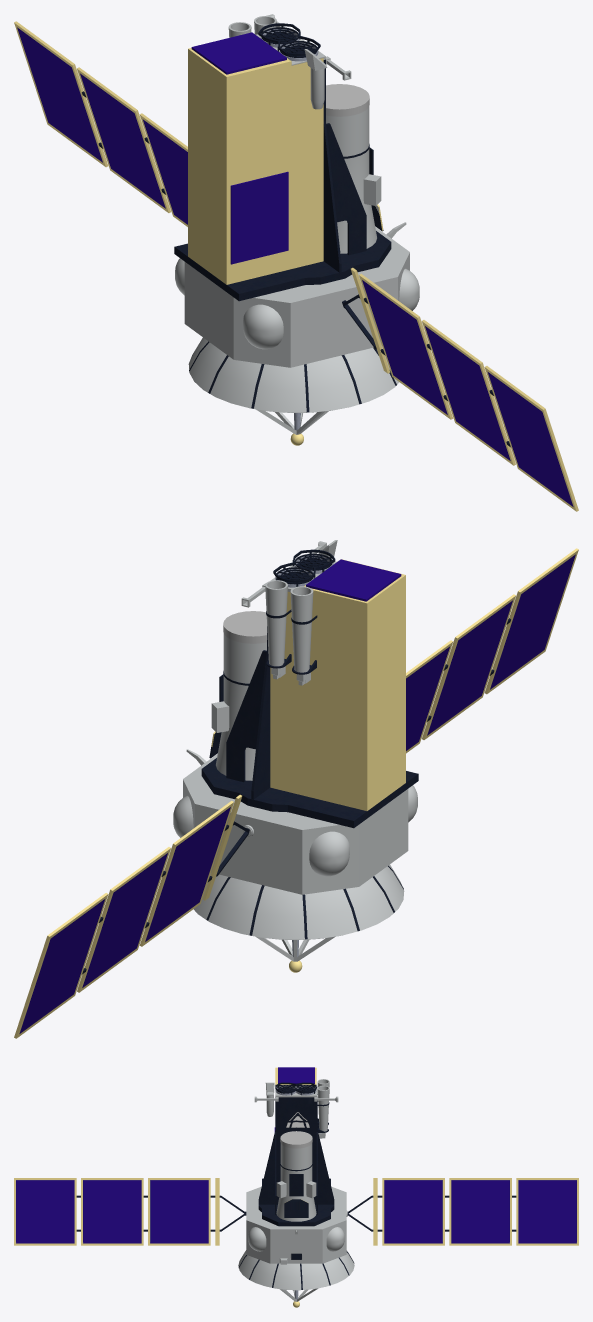
The model's file is satelite.obj.
The picture shows the model from 3 angles, top to bottom: view 1: azimuth 30°, elevation 25°; view 2: azimuth 150°, elevation 25°; view 3: azimuth 270°, elevation 25°; orthographic projection. The views are drawn at different scales.
Visible parts, largest first — view 1: Cube.001_Cube.007, Cube.006_Cube.008, Cube_Cube.001, Sphere.001, Plane, Cylinder, Cube.010_Cube.016, Cube.002_Cube.003, Sphere, Cube.007_Cube.009, Cube.003_Cube.004, Cube.016_Cube.023 (+2 smaller); view 2: Cube.001_Cube.007, Cube.006_Cube.008, Cube_Cube.001, Sphere.001, Cylinder, Cylinder.002_Cylinder.004, Cube.010_Cube.016, Cube.002_Cube.003, Sphere, Cube.007_Cube.009, Cube.003_Cube.004, Cube.016_Cube.023 (+3 smaller); view 3: Cube.001_Cube.007, Cube_Cube.001, Cube.003_Cube.004, Sphere.001, Cylinder, Cube.016_Cube.023, Cube.010_Cube.016, Sphere, Cylinder.002_Cylinder.004, Cube.007_Cube.009, Cube.012_Cube.018, Cube.008_Cube.015 (+2 smaller).
Part boxes in pixels (left/top/right/bottom): Cube.001_Cube.007: left=14, top=21, right=578, bottom=511; Cube.006_Cube.008: left=188, top=33, right=323, bottom=284; Cube_Cube.001: left=184, top=227, right=409, bottom=367; Sphere.001: left=188, top=337, right=399, bottom=412; Plane: left=230, top=171, right=288, bottom=264; Cylinder: left=326, top=84, right=376, bottom=253; Cube.010_Cube.016: left=174, top=231, right=391, bottom=301; Cube.002_Cube.003: left=326, top=123, right=366, bottom=255; Sphere: left=175, top=258, right=419, bottom=349; Cube.007_Cube.009: left=191, top=32, right=286, bottom=74; Cube.003_Cube.004: left=295, top=36, right=341, bottom=272; Cube.016_Cube.023: left=342, top=267, right=390, bottom=373; Cube.001_Cube.007: left=14, top=548, right=578, bottom=1038; Cube.006_Cube.008: left=270, top=559, right=405, bottom=810; Cube_Cube.001: left=183, top=754, right=408, bottom=894; Sphere.001: left=193, top=864, right=404, bottom=939; Cylinder: left=216, top=611, right=266, bottom=780; Cylinder.002_Cylinder.004: left=265, top=580, right=317, bottom=685; Cube.010_Cube.016: left=201, top=758, right=418, bottom=828; Cube.002_Cube.003: left=226, top=650, right=266, bottom=782; Sphere: left=173, top=785, right=417, bottom=876; Cube.007_Cube.009: left=306, top=559, right=401, bottom=601; Cube.003_Cube.004: left=251, top=563, right=298, bottom=799; Cube.016_Cube.023: left=202, top=794, right=249, bottom=900; Cube.001_Cube.007: left=14, top=1178, right=578, bottom=1245; Cube_Cube.001: left=246, top=1186, right=346, bottom=1263; Cube.003_Cube.004: left=258, top=1097, right=334, bottom=1204; Sphere.001: left=238, top=1250, right=354, bottom=1290; Cylinder: left=276, top=1131, right=316, bottom=1221; Cube.016_Cube.023: left=215, top=1178, right=377, bottom=1245; Cube.010_Cube.016: left=258, top=1178, right=334, bottom=1226; Sphere: left=248, top=1227, right=344, bottom=1251; Cylinder.002_Cylinder.004: left=317, top=1079, right=329, bottom=1138; Cube.007_Cube.009: left=278, top=1067, right=314, bottom=1083; Cube.012_Cube.018: left=284, top=1199, right=308, bottom=1217; Cube.008_Cube.015: left=289, top=1174, right=303, bottom=1196.
Size of the model in its own units: 0.9 by 1.75 by 4.06.
